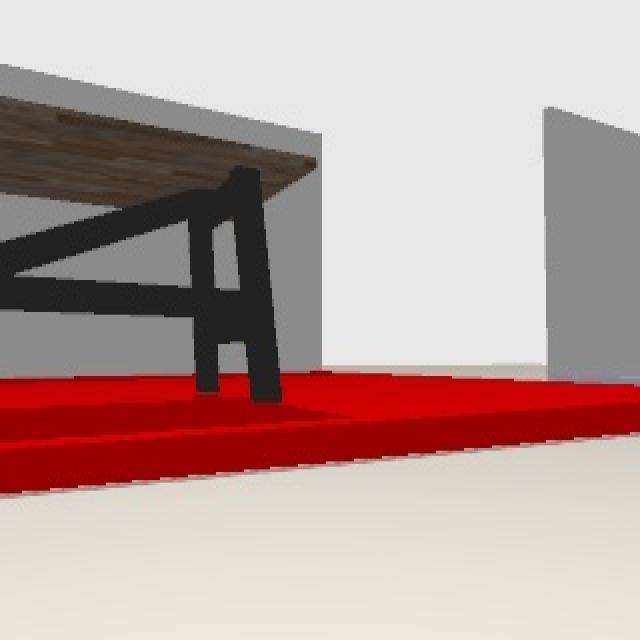dining: (1, 96, 318, 407)
